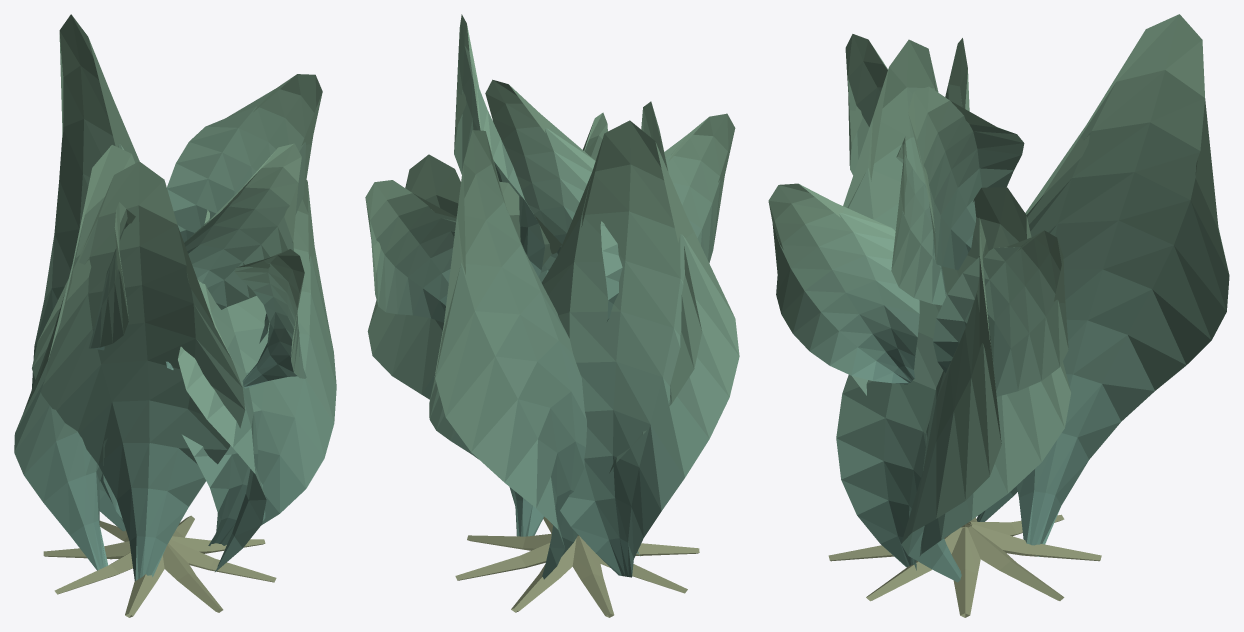
File: FanHabitat1.gltf
The picture shows the model from 3 angles, left to right: view 1: azimuth 30°, elevation 25°; view 2: azimuth 150°, elevation 25°; view 3: azimuth 270°, elevation 25°; orthographic projection. The views are drawn at different scales.
Visible parts, largest first — view 1: FanHabitat1; view 2: FanHabitat1; view 3: FanHabitat1.
Part boxes in pixels (x1,y1,x2,y2): FanHabitat1: (14,14,336,617); FanHabitat1: (365,14,739,617); FanHabitat1: (768,14,1229,617).
Bounding box in the file's own units: 1.39 × 1.97 × 1.5.
